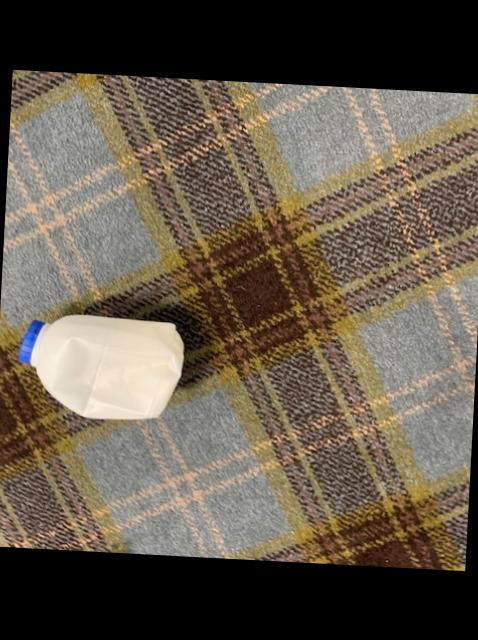plastic: (20, 316, 185, 420)
